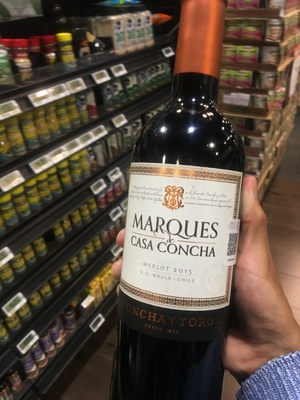marques de casa concha merlot: (115, 18, 256, 400)
